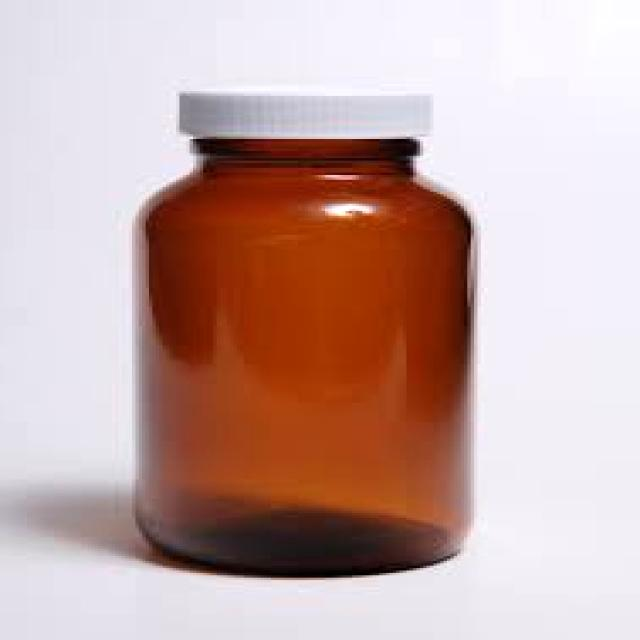Glass: (126, 86, 481, 581)
